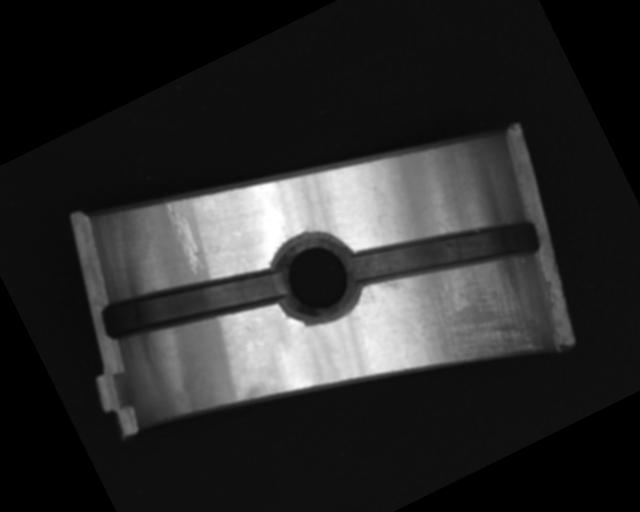gap: (343, 176, 543, 327), (94, 229, 292, 373)
hole: (255, 215, 377, 341)
nick: (159, 195, 211, 277)
scratch: (378, 227, 552, 402)
